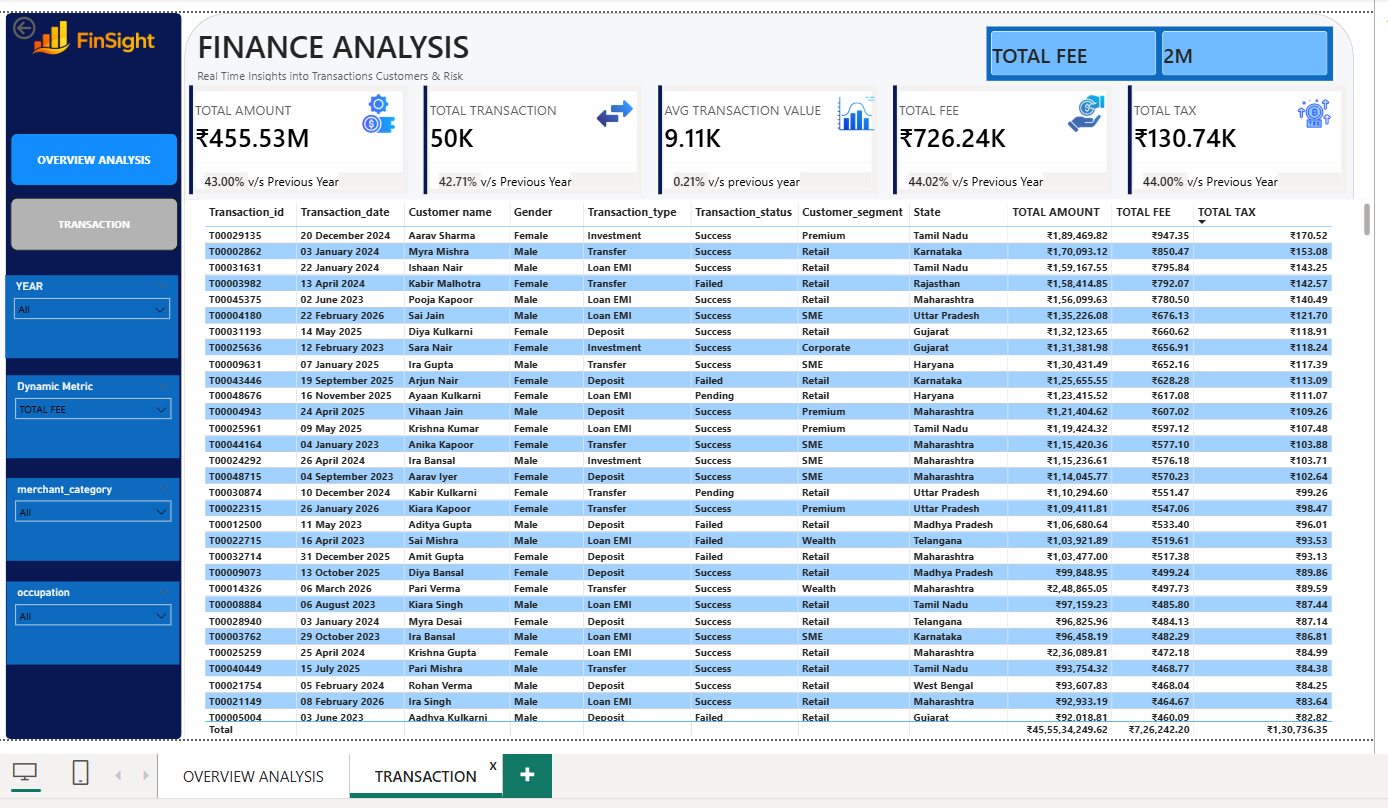

This screenshot's page, from the dashboard's own definition file:
{"tool":"powerbi","page":{"name":"TRANSACTION","canvas":[1800,950],"ordinal":1},"visuals":[{"type":"shape","box":[9.8,0,230.6,950],"z":0},{"type":"shape","box":[243.4,0,1530,951.9],"z":1000},{"type":"image","box":[9.8,0,233.8,65.4],"z":2000},{"type":"cardVisual","fields":{"Data":["finance_transactions.DASHBOARD TITLE"]},"box":[243.6,0,614.8,106.3],"z":3000},{"type":"cardVisual","fields":{"Data":["finance_transactions.TOTAL AMOUNT","finance_transactions.TOTAL TRANSACTION","finance_transactions.AVG TRANSACTION VALUE","finance_transactions.TOTAL FEE","finance_transactions.TOTAL TAX"]},"box":[242.9,88.6,1531.4,155],"z":4000},{"type":"image","box":[472.6,106.3,50.7,50.7],"z":5000},{"type":"image","box":[781.6,106.3,50.7,50.7],"z":6000},{"type":"image","box":[1097.2,106.3,50.7,50.7],"z":7000},{"type":"image","box":[1398.1,106.3,50.7,50.7],"z":8000},{"type":"image","box":[1682.6,106.3,78.5,50.7],"z":9000},{"type":"cardVisual","fields":{"Data":["Min(Dynamic Metric.DYNAMIC TITLE)","Sum(calender table.YEAR)"]},"box":[1293.4,18,452.9,70.3],"z":10000},{"type":"shape","box":[244.4,244.4,1556.4,706.8],"z":11000},{"type":"image","box":[1684.2,811,88.3,40.9],"z":12000},{"type":"tableEx","fields":{"Values":["finance_transactions.transaction_id","finance_transactions.transaction_date","customers.customer name","customers.gender","finance_transactions.transaction_type","finance_transactions.transaction_status","customers.customer_segment","customers.state","finance_transactions.TOTAL AMOUNT","finance_transactions.TOTAL FEE","finance_transactions.TOTAL TAX"]},"box":[264.9,243.6,1535.4,708],"z":13000},{"type":"actionButton","box":[14.7,0,99.7,39.2],"z":14000},{"type":"slicer","fields":{"Values":["dynamicMetric.dynamicMetric"]},"box":[11.4,474.2,225.7,107.9],"z":15000},{"type":"slicer","fields":{"Values":["finance_transactions.merchant_category"]},"box":[11.4,608.3,225.7,107.9],"z":16000},{"type":"slicer","fields":{"Values":["customers.occupation"]},"box":[11.4,744,225.7,107.9],"z":17000},{"type":"slicer","fields":{"Values":["calender table.YEAR"]},"box":[9.8,343.4,225.7,107.9],"z":18000},{"type":"pageNavigator","box":[16.4,157,219.1,155.3],"z":19000}]}

Visuals, with their boxes on the page's 1800x950 design canvas (x1, y1, x2, y2). These are canvas units, not pixel positions in the 1388x808 screenshot, which may show the page scaled, cropped or inside an application window:
shape: box=[10, 0, 240, 950]
shape: box=[243, 0, 1773, 952]
image: box=[10, 0, 244, 65]
cardVisual - finance_transactions.DASHBOARD TITLE: box=[244, 0, 858, 106]
cardVisual - finance_transactions.TOTAL AMOUNT x finance_transactions.TOTAL TRANSACTION: box=[243, 89, 1774, 244]
image: box=[473, 106, 523, 157]
image: box=[782, 106, 832, 157]
image: box=[1097, 106, 1148, 157]
image: box=[1398, 106, 1449, 157]
image: box=[1683, 106, 1761, 157]
cardVisual - Min(Dynamic Metric.DYNAMIC TITLE) x Sum(calender table.YEAR): box=[1293, 18, 1746, 88]
shape: box=[244, 244, 1801, 951]
image: box=[1684, 811, 1772, 852]
tableEx - finance_transactions.transaction_id x finance_transactions.transaction_date: box=[265, 244, 1800, 952]
actionButton: box=[15, 0, 114, 39]
slicer - dynamicMetric.dynamicMetric: box=[11, 474, 237, 582]
slicer - finance_transactions.merchant_category: box=[11, 608, 237, 716]
slicer - customers.occupation: box=[11, 744, 237, 852]
slicer - calender table.YEAR: box=[10, 343, 236, 451]
pageNavigator: box=[16, 157, 236, 312]
